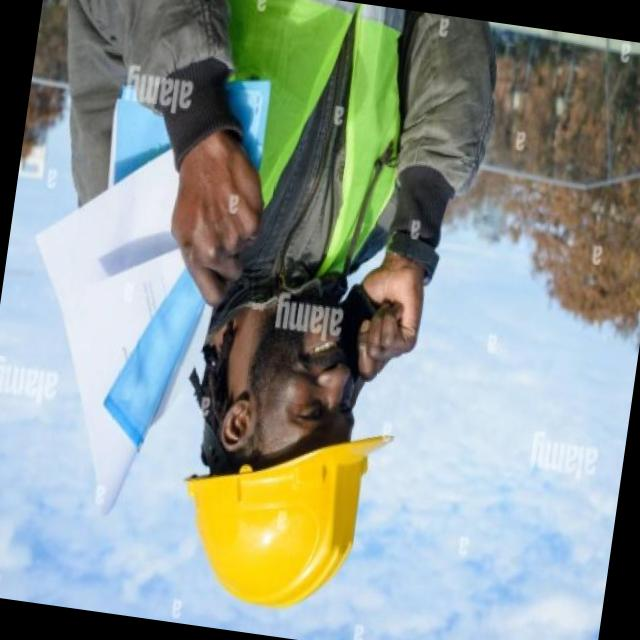not-gloved: (138, 126, 272, 317), (342, 252, 431, 403)
